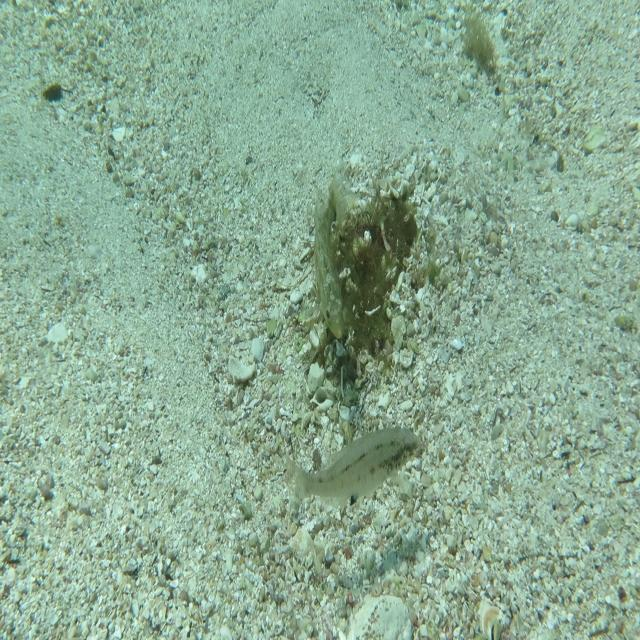CHASE_FLEE: (312, 169, 356, 342)
female: (282, 424, 424, 518)
nest: (307, 163, 434, 373)
